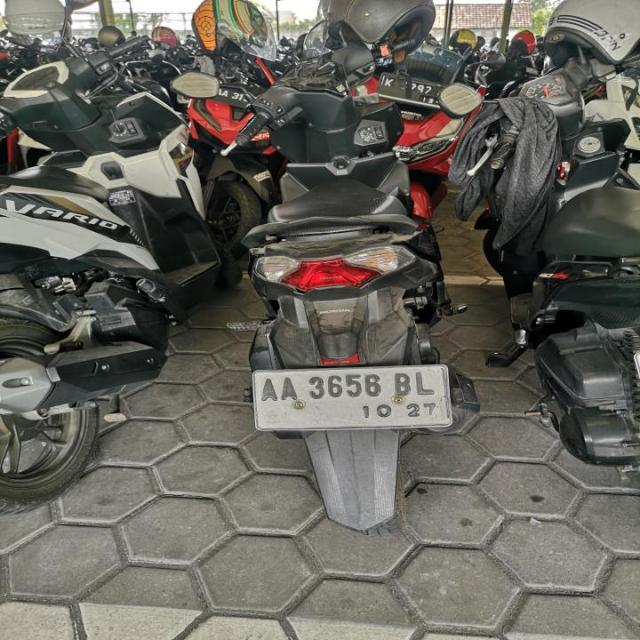License Plate: (248, 358, 458, 435)
